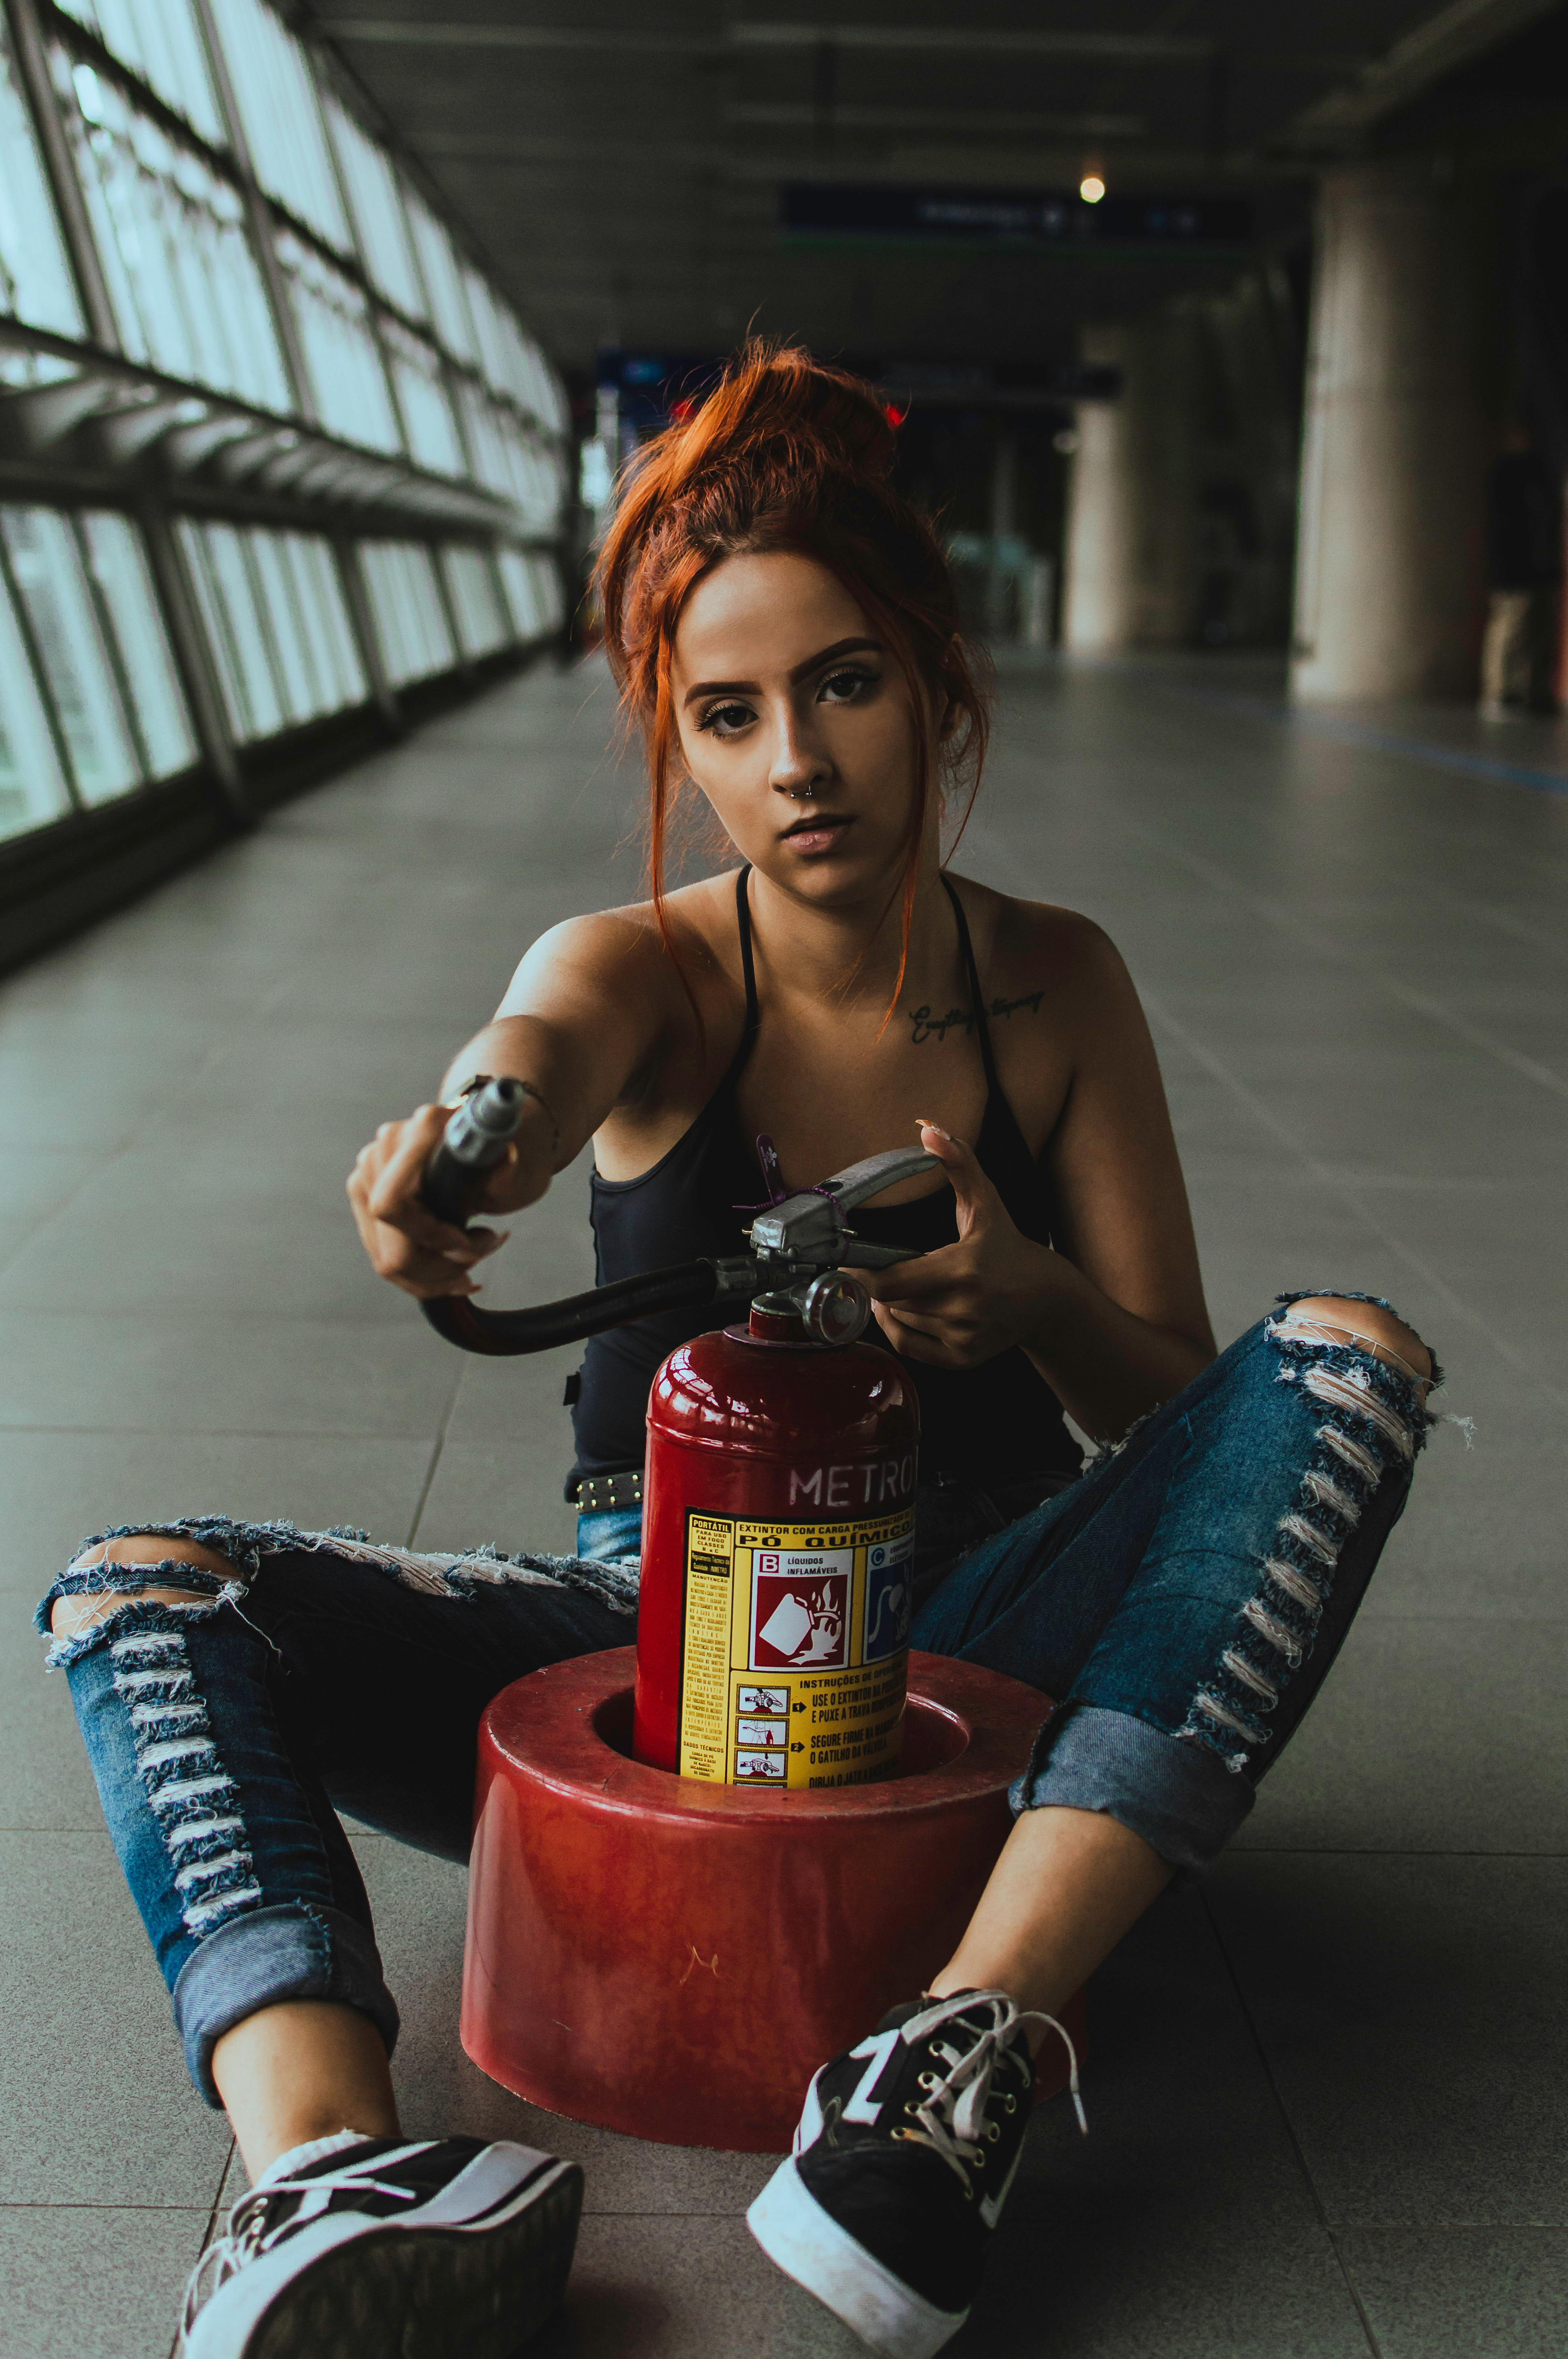extintor: (635, 1134, 942, 1788)
